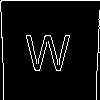W: (25, 25, 71, 71)
